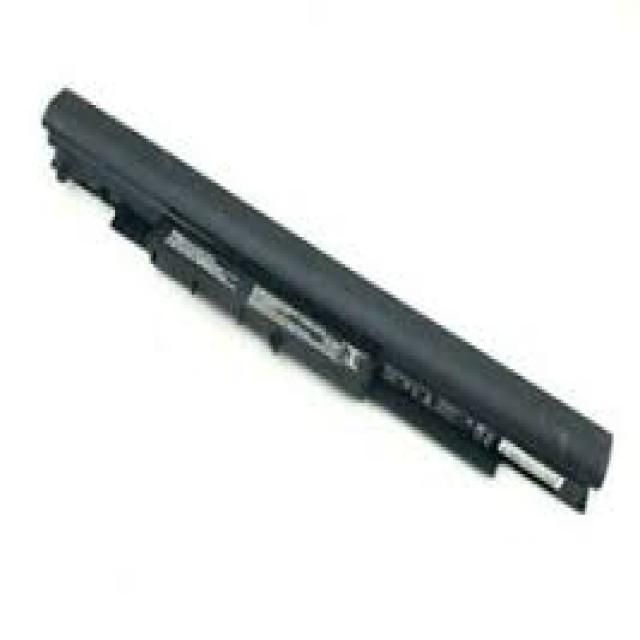Battery: (31, 78, 640, 517)
